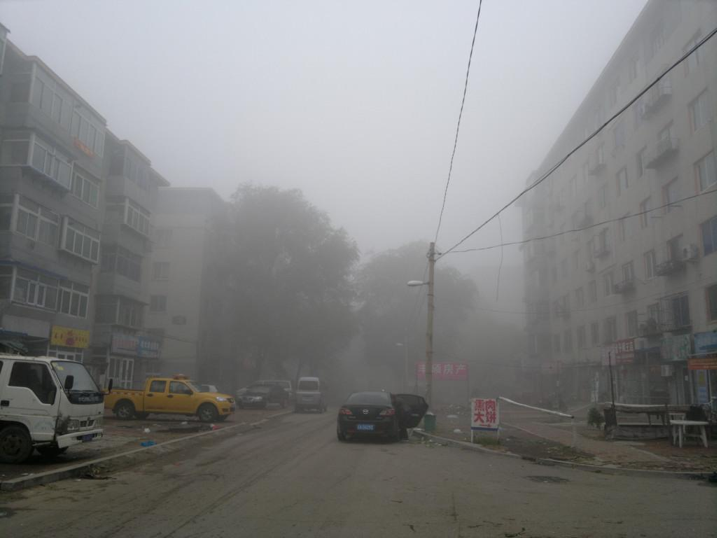car: (1, 353, 114, 466), (105, 373, 236, 425), (336, 390, 428, 445), (233, 377, 295, 408), (294, 376, 330, 414), (238, 383, 290, 409)
